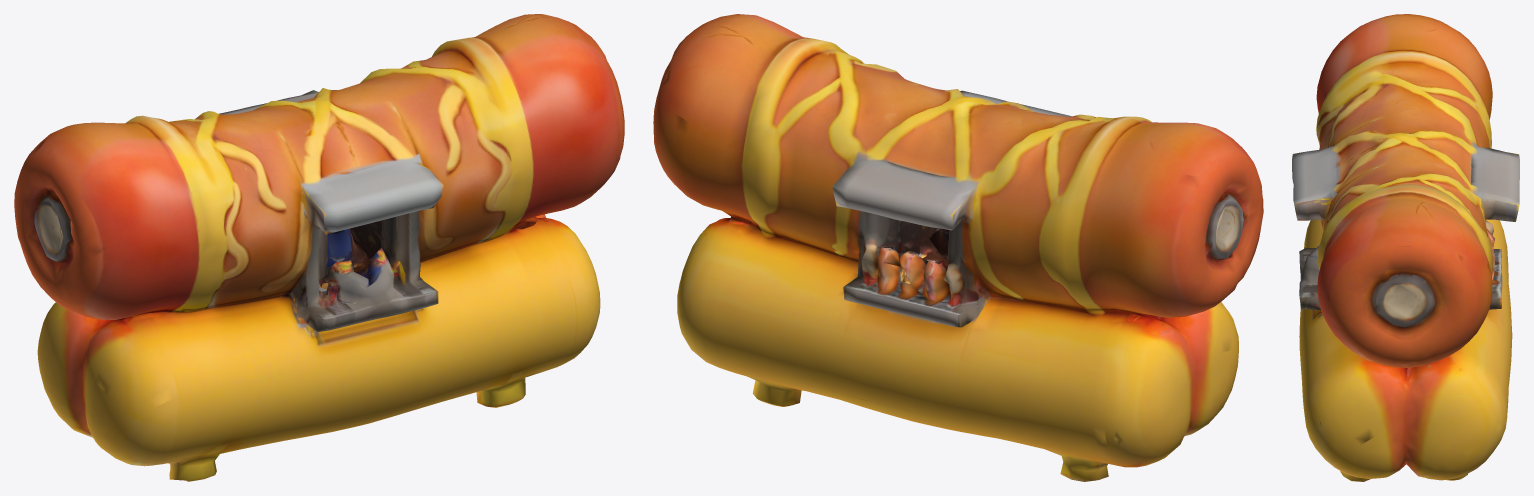
Rendered from new_york_style_hotdog_0404020148_texture.fbx.
3 renders of one model, left to right at view 1: azimuth 30°, elevation 25°; view 2: azimuth 150°, elevation 25°; view 3: azimuth 270°, elevation 25°, orthographic. The views are drawn at different scales.
Visible parts, largest first — view 1: Mesh1; view 2: Mesh1; view 3: Mesh1.
Boxes of the visible parts, bbox=[...] form: Mesh1: bbox=[14, 14, 624, 481]; Mesh1: bbox=[653, 14, 1263, 481]; Mesh1: bbox=[1292, 14, 1519, 481].
Size of the model in its own units: 201 by 122 by 84.3.
1 material, 1 textured.
